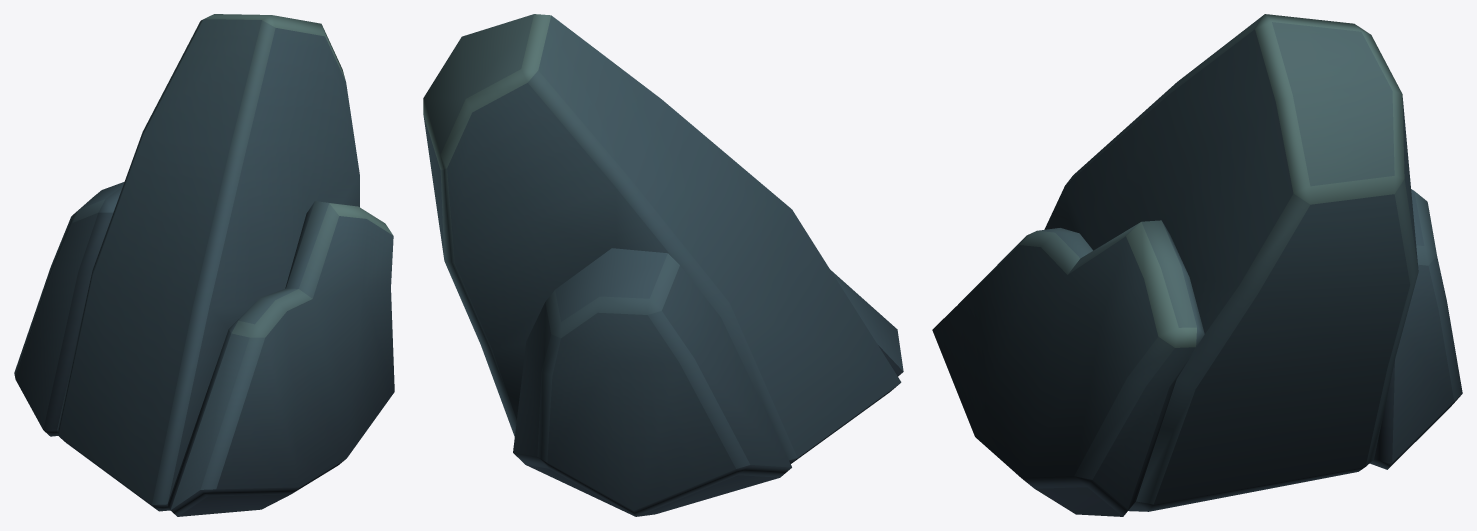
Rendered from rock_13.fbx.
3 renders of one model, left to right at view 1: azimuth 30°, elevation 25°; view 2: azimuth 150°, elevation 25°; view 3: azimuth 270°, elevation 25°, orthographic. The views are drawn at different scales.
Visible parts, largest first — view 1: rock_13; view 2: rock_13; view 3: rock_13.
Boxes of the visible parts, x1,y1,x2,y2 form: rock_13: [14, 14, 394, 516]; rock_13: [423, 14, 903, 516]; rock_13: [932, 14, 1462, 516].
Bounding box in the file's own units: 262 × 317 × 295.
